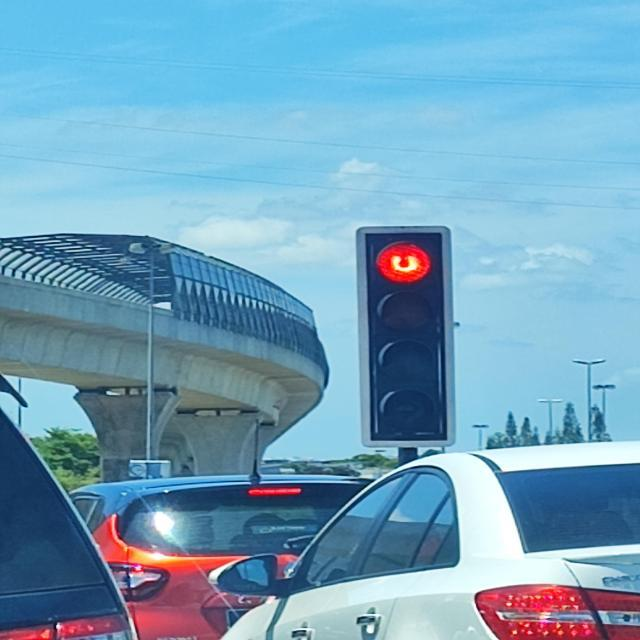Red: (361, 227, 456, 449)
